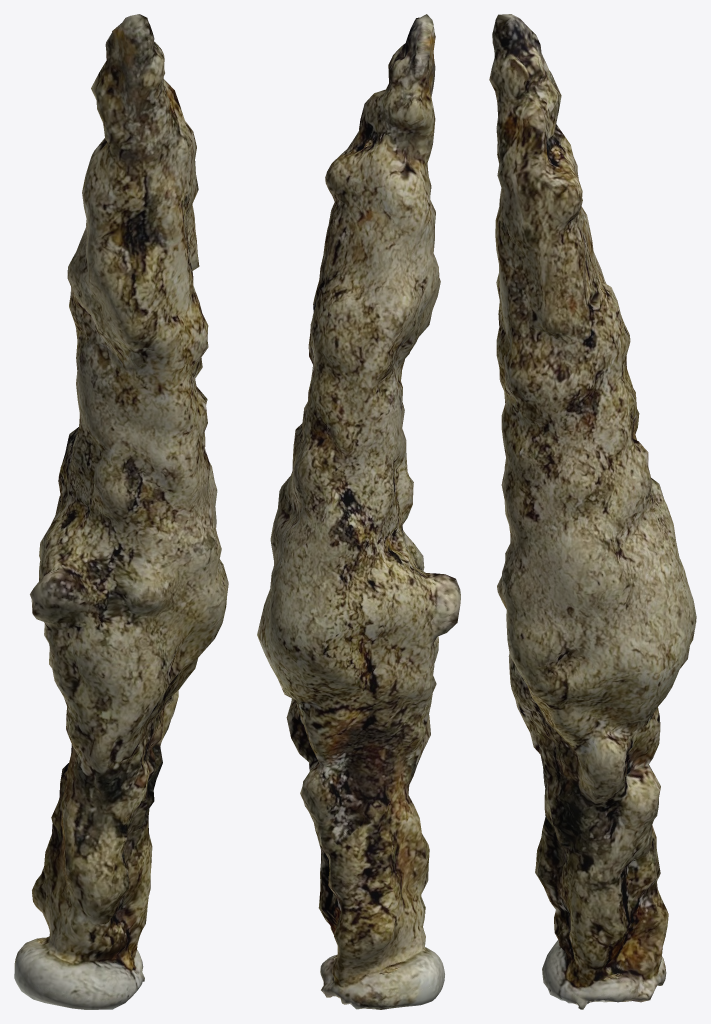
The model's file is EMB_NAIL-KLD-7-1284.glb.
The picture shows the model from 3 angles, left to right: view 1: azimuth 30°, elevation 25°; view 2: azimuth 150°, elevation 25°; view 3: azimuth 270°, elevation 25°; orthographic projection. The views are drawn at different scales.
Visible parts, largest first — view 1: EMB_NAIL-KLD-7-1284; view 2: EMB_NAIL-KLD-7-1284; view 3: EMB_NAIL-KLD-7-1284.
Boxes of the visible parts, x1=… form: EMB_NAIL-KLD-7-1284: x1=14, y1=14, x2=228, y2=1009; EMB_NAIL-KLD-7-1284: x1=257, y1=14, x2=460, y2=1009; EMB_NAIL-KLD-7-1284: x1=489, y1=14, x2=696, y2=1009.
Size of the model in its own units: 0.0926 by 0.4845 by 0.093.
Materials: 1 (1 with a texture image).
